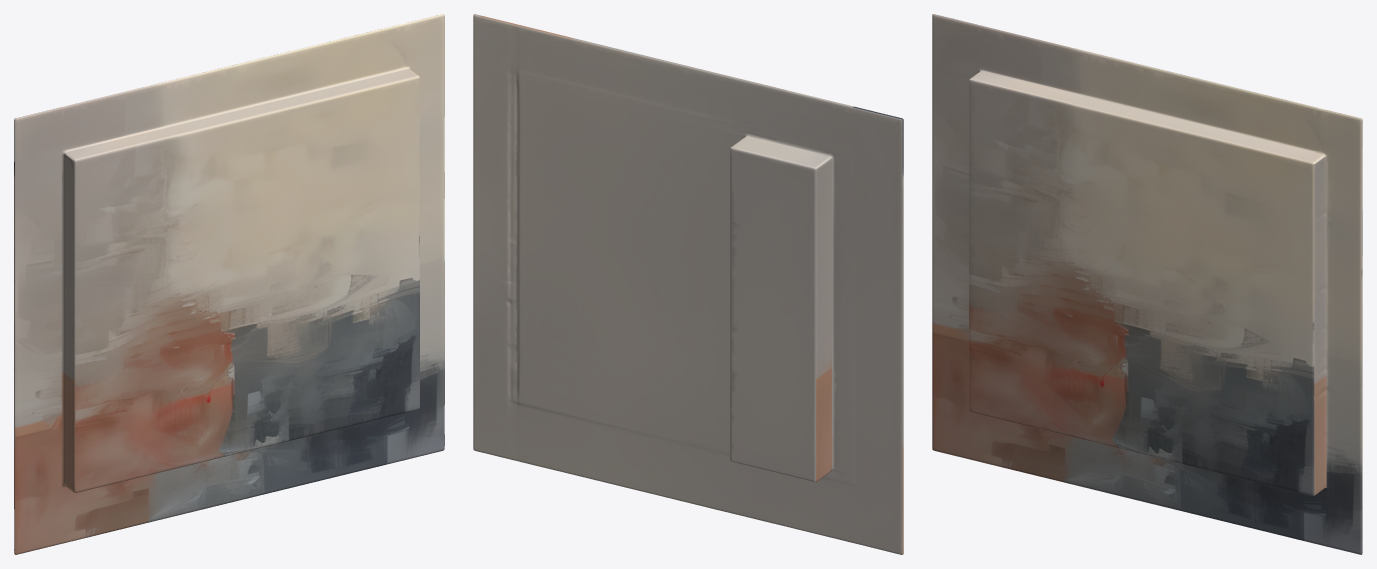
Rendered from WallArt.glb.
3 views of the same model, side by side, from view 1: azimuth 30°, elevation 25°; view 2: azimuth 150°, elevation 25°; view 3: azimuth 330°, elevation 25° (orthographic).
Visible parts, largest first — view 1: WallArt; view 2: WallArt; view 3: WallArt.
Boxes of the visible parts, <box> form: WallArt: <box>14,14,444,554</box>; WallArt: <box>473,14,903,554</box>; WallArt: <box>932,14,1362,554</box>.
Size of the model in its own units: 1.99 by 1.94 by 0.2363.
1 material, 1 textured.
